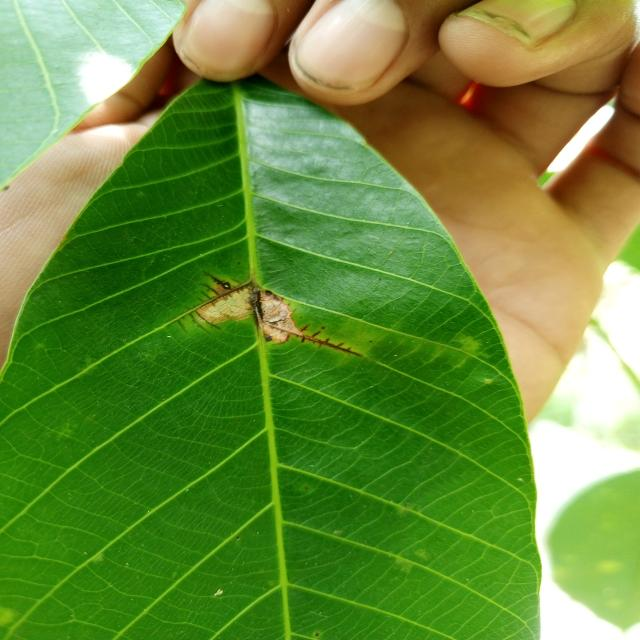Corynespora: (283, 324, 364, 357), (175, 305, 222, 334), (199, 269, 233, 304)
Leaf-Blight: (260, 292, 302, 341), (197, 289, 252, 323)
